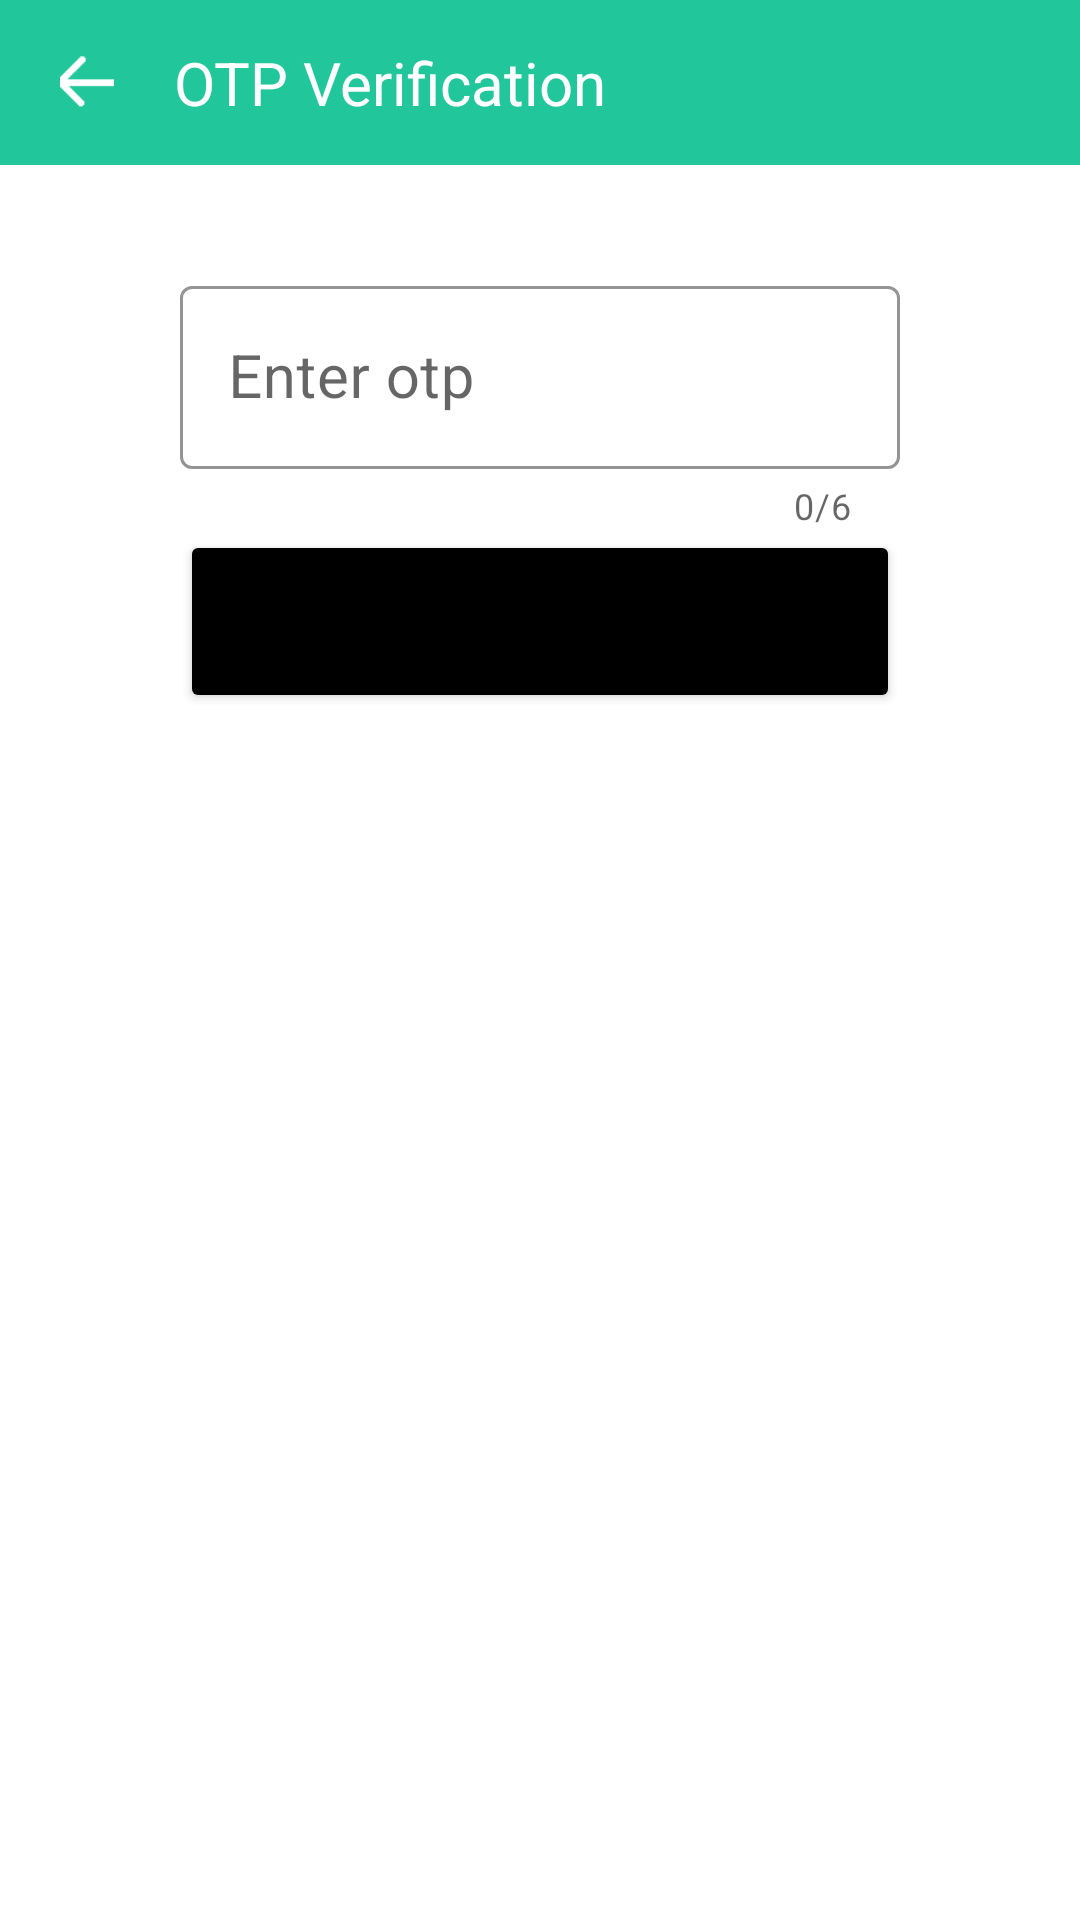

Named icons in this screenshot (1080px×1920px) and their bounding boxes, (x1, y1, x2, y2):
arrow: (60, 56, 114, 107)
